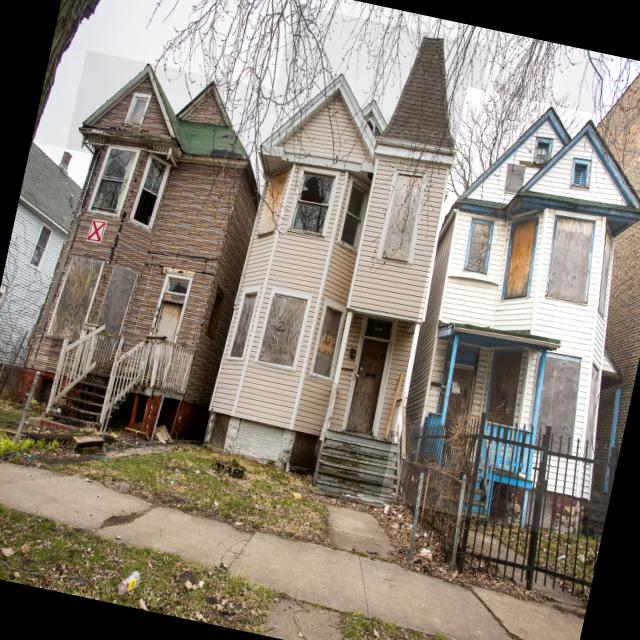House: (196, 4, 491, 503), (379, 86, 640, 544), (10, 49, 281, 449), (515, 54, 640, 514), (0, 141, 90, 375)
